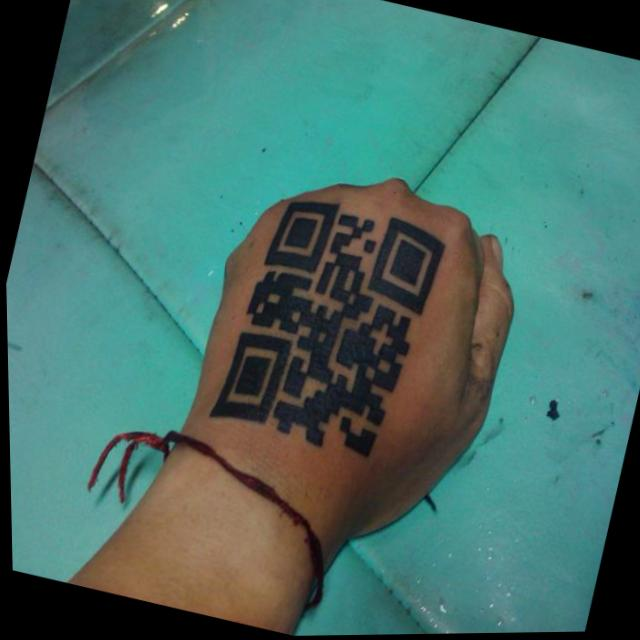qrcode: (200, 186, 451, 477)
